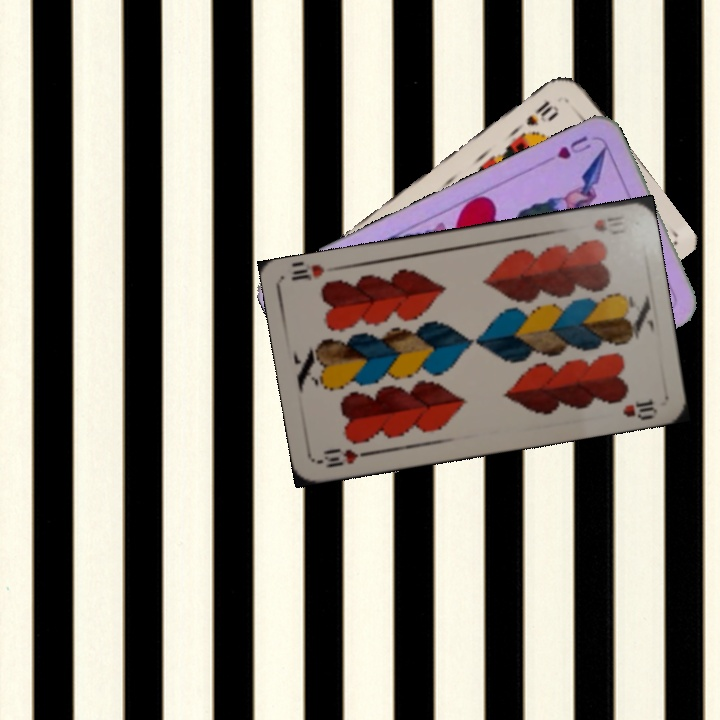H10: (316, 444, 375, 471), (590, 211, 627, 235)
HU: (553, 131, 594, 162)
S10: (522, 96, 561, 129)
